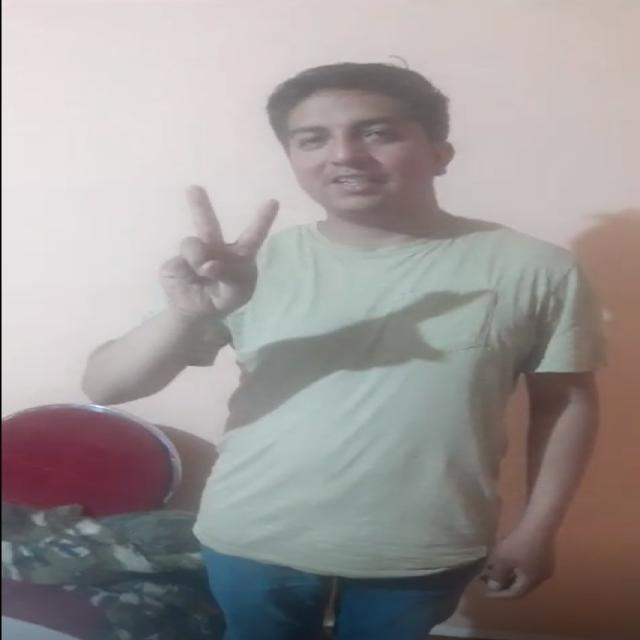V: (138, 178, 298, 348)
